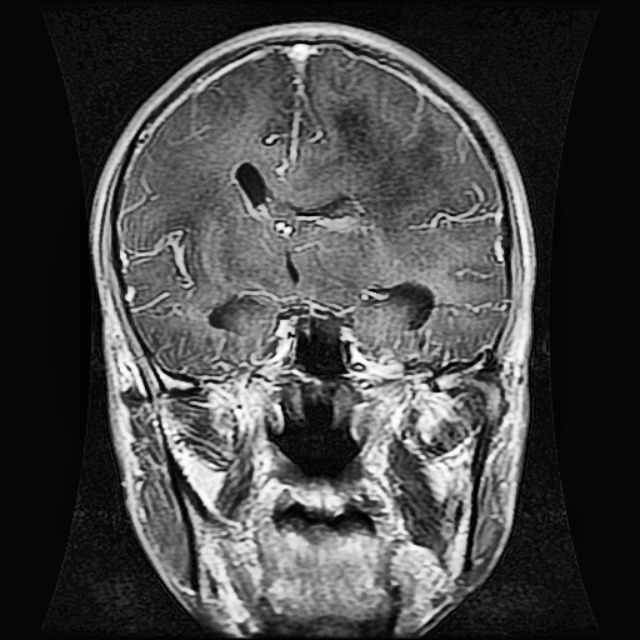Meningioma: (265, 192, 373, 237)
